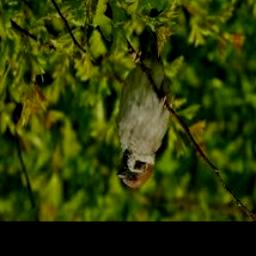Sparrow: (116, 8, 172, 188)
